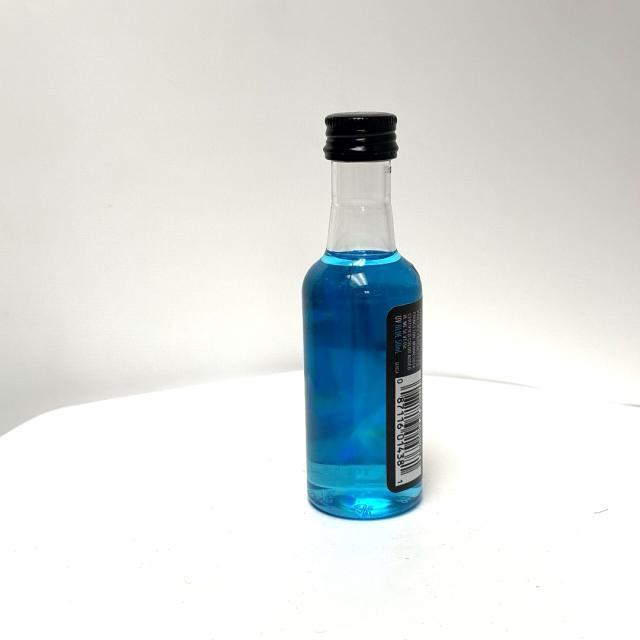UV BLUE RASPBERRY 50ML: (286, 100, 433, 523)
